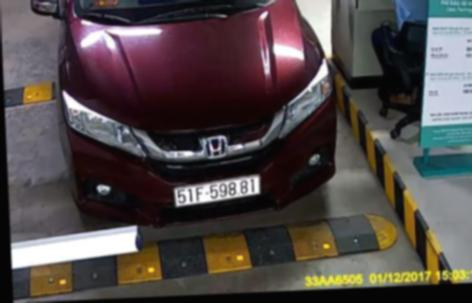License_Plate: (172, 174, 264, 207)
